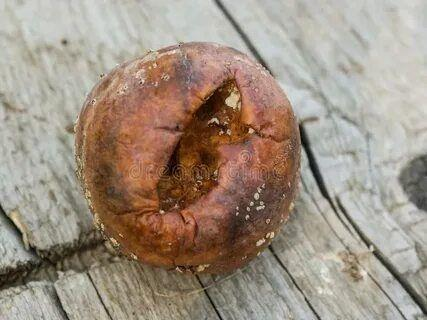Apple: (73, 42, 300, 274)
